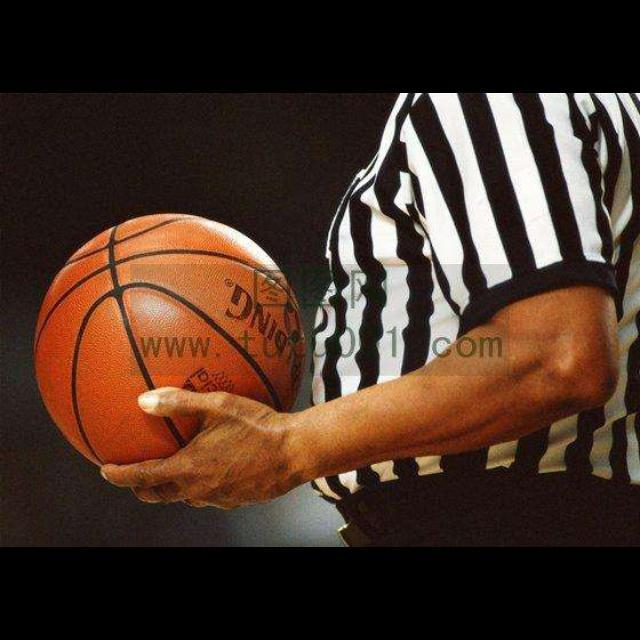basketball: (35, 212, 301, 463)
